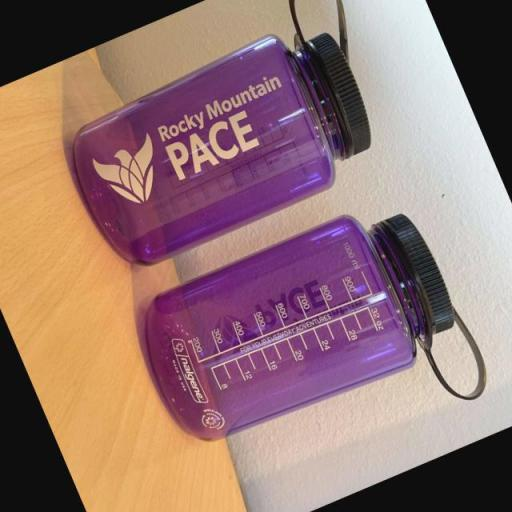bottle: (121, 182, 499, 512), (31, 0, 413, 283)
